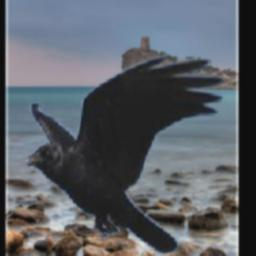Crow: (23, 53, 226, 255)
